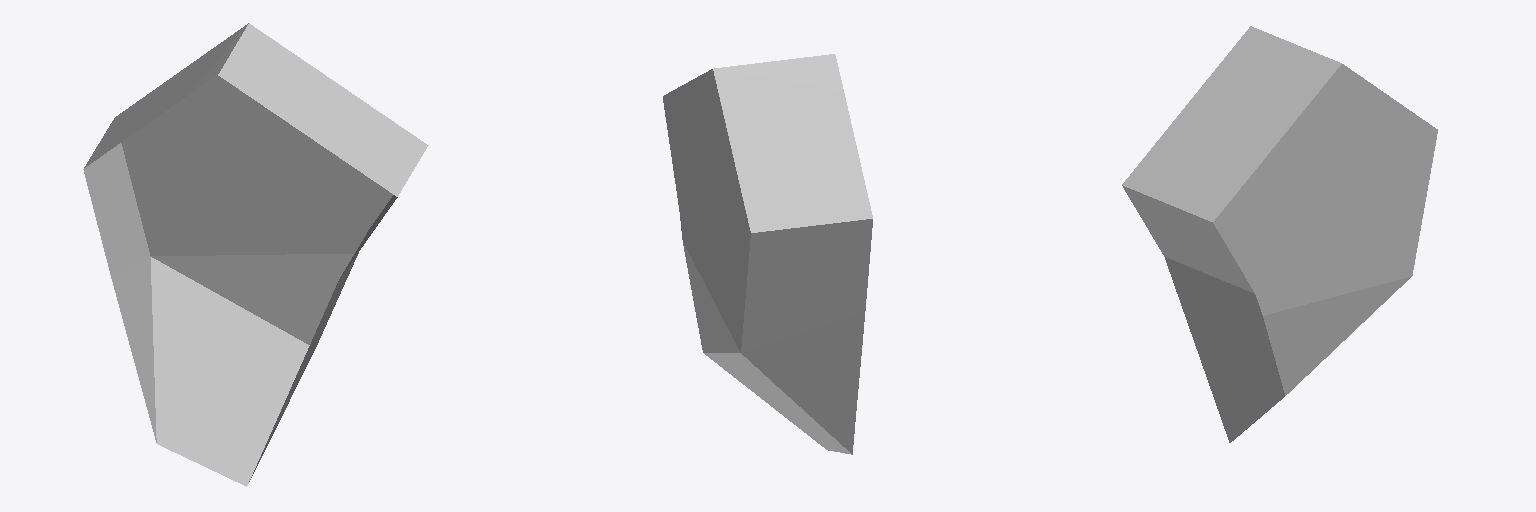
The model's file is li-fang-ti-.001_cell.142.obj.
3 views of the same model, side by side, from view 1: azimuth 30°, elevation 25°; view 2: azimuth 150°, elevation 25°; view 3: azimuth 270°, elevation 25° (orthographic).
Visible parts, largest first — view 1: 立方体.001_cell.142; view 2: 立方体.001_cell.142; view 3: 立方体.001_cell.142.
Part boxes in pixels (bbox=[...]): 立方体.001_cell.142: bbox=[83, 23, 428, 486]; 立方体.001_cell.142: bbox=[663, 54, 872, 454]; 立方体.001_cell.142: bbox=[1122, 26, 1437, 442].
Bounding box in the file's own units: 0.0789 × 0.1108 × 0.0778.